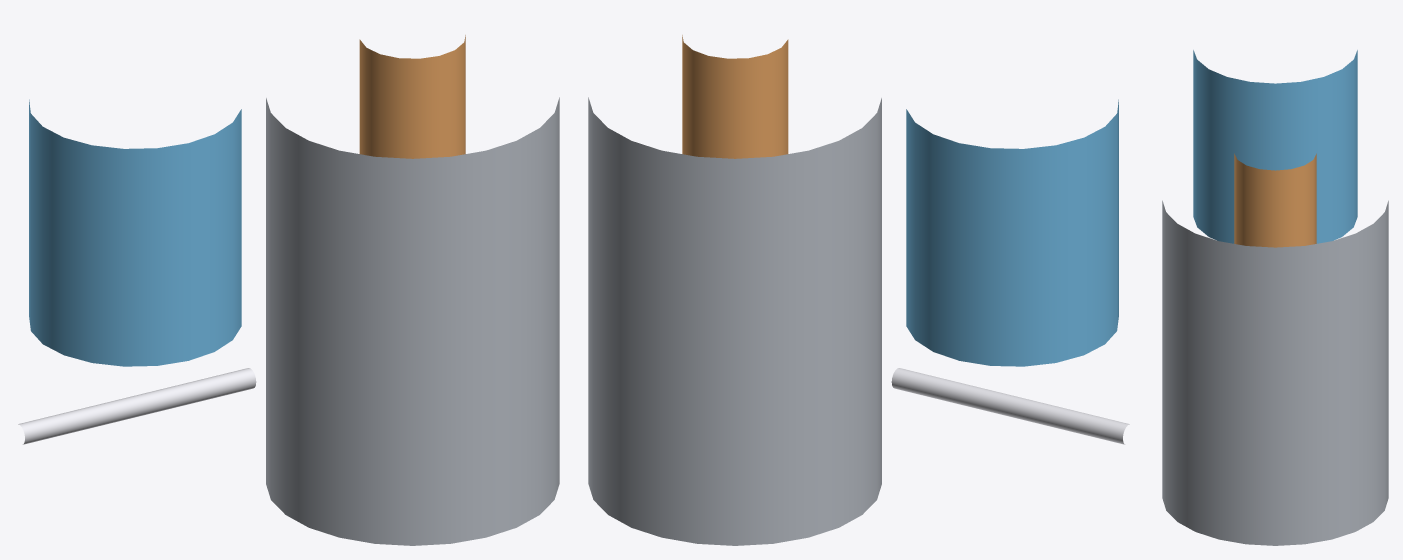
File: process_control_instrumentation.glb
3 views of the same model, side by side, from view 1: azimuth 30°, elevation 25°; view 2: azimuth 150°, elevation 25°; view 3: azimuth 270°, elevation 25° (orthographic). The views are drawn at different scales.
Parts seen in each view (by area): view 1: ProcessBufferTank, PneumaticDiaphragmValve, PressureTransmitterHead, RTDTemperatureProbe; view 2: ProcessBufferTank, PneumaticDiaphragmValve, PressureTransmitterHead, RTDTemperatureProbe; view 3: ProcessBufferTank, PneumaticDiaphragmValve, PressureTransmitterHead.
Part boxes in pixels (x1=…): ProcessBufferTank: x1=266, y1=97, x2=559, y2=545; PneumaticDiaphragmValve: x1=29, y1=99, x2=241, y2=366; PressureTransmitterHead: x1=359, y1=35, x2=465, y2=158; RTDTemperatureProbe: x1=18, y1=368, x2=256, y2=444; ProcessBufferTank: x1=588, y1=97, x2=881, y2=545; PneumaticDiaphragmValve: x1=906, y1=99, x2=1118, y2=366; PressureTransmitterHead: x1=682, y1=35, x2=788, y2=158; RTDTemperatureProbe: x1=891, y1=368, x2=1129, y2=444; ProcessBufferTank: x1=1162, y1=200, x2=1388, y2=545; PneumaticDiaphragmValve: x1=1193, y1=50, x2=1357, y2=243; PressureTransmitterHead: x1=1234, y1=153, x2=1316, y2=247.
Size of the model in its own units: 2.25 by 1.85 by 1.1.
